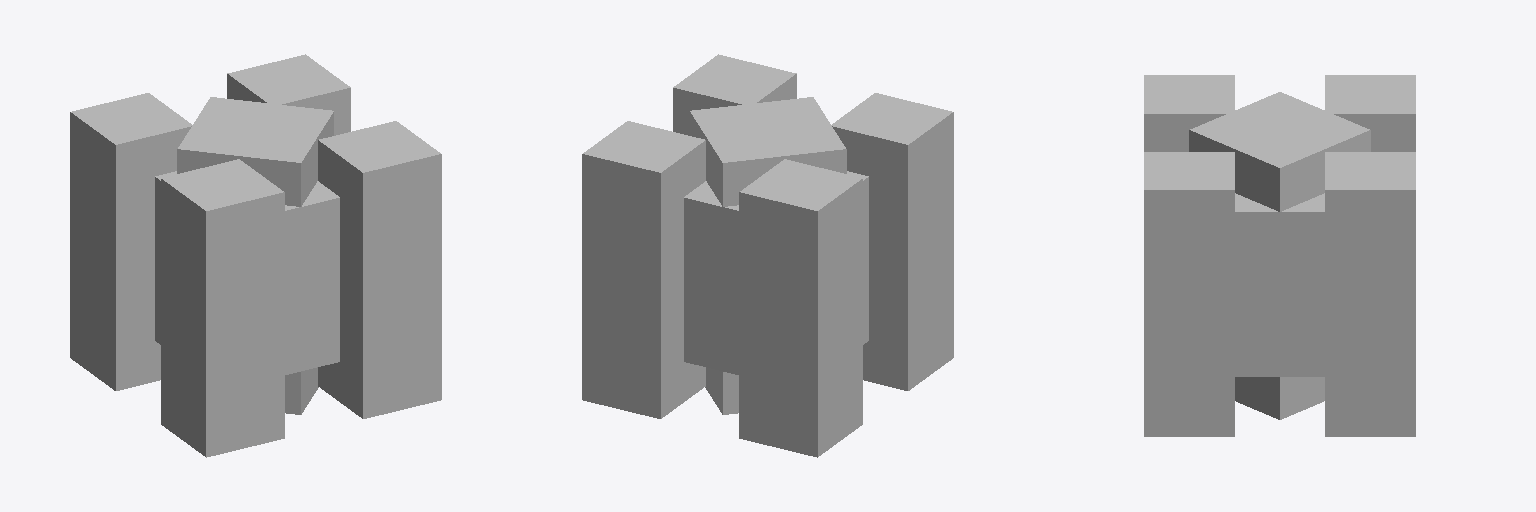
The model's file is network_cable.obj.
3 renders of one model, left to right at view 1: azimuth 30°, elevation 25°; view 2: azimuth 150°, elevation 25°; view 3: azimuth 270°, elevation 25°, orthographic.
Parts seen in each view (by area): view 1: cable_straight, cable_junction; view 2: cable_straight, cable_junction; view 3: cable_junction, cable_straight.
Part boxes in pixels (x1,y1,x2,y2): cable_straight: (70, 54, 441, 456); cable_junction: (116, 88, 441, 457); cable_straight: (582, 54, 953, 456); cable_junction: (582, 88, 907, 457); cable_junction: (1144, 114, 1415, 436); cable_straight: (1144, 75, 1415, 419).
Bounding box in the file's own units: 1.48 × 1.51 × 1.48.